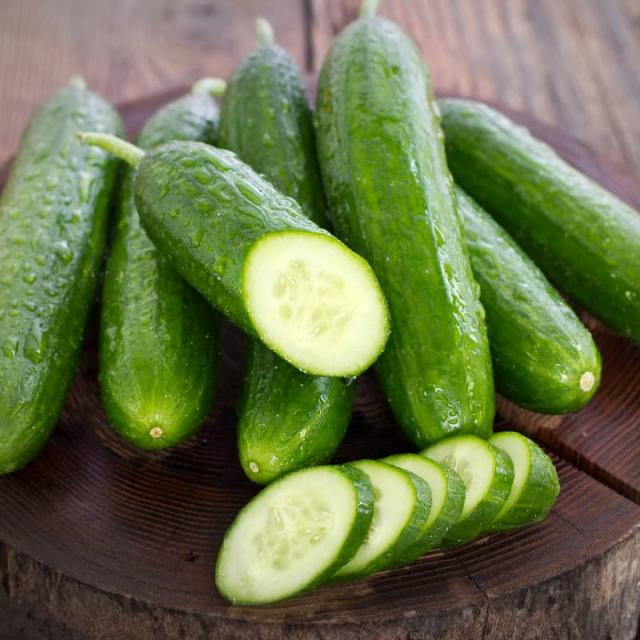Pickle: (316, 15, 494, 448), (132, 141, 389, 377), (439, 99, 640, 344), (0, 79, 122, 473), (99, 169, 219, 448), (455, 186, 601, 414), (219, 19, 329, 228), (216, 466, 369, 604), (238, 338, 356, 484), (332, 460, 431, 580), (371, 454, 465, 571), (485, 431, 560, 532), (421, 435, 495, 518)
